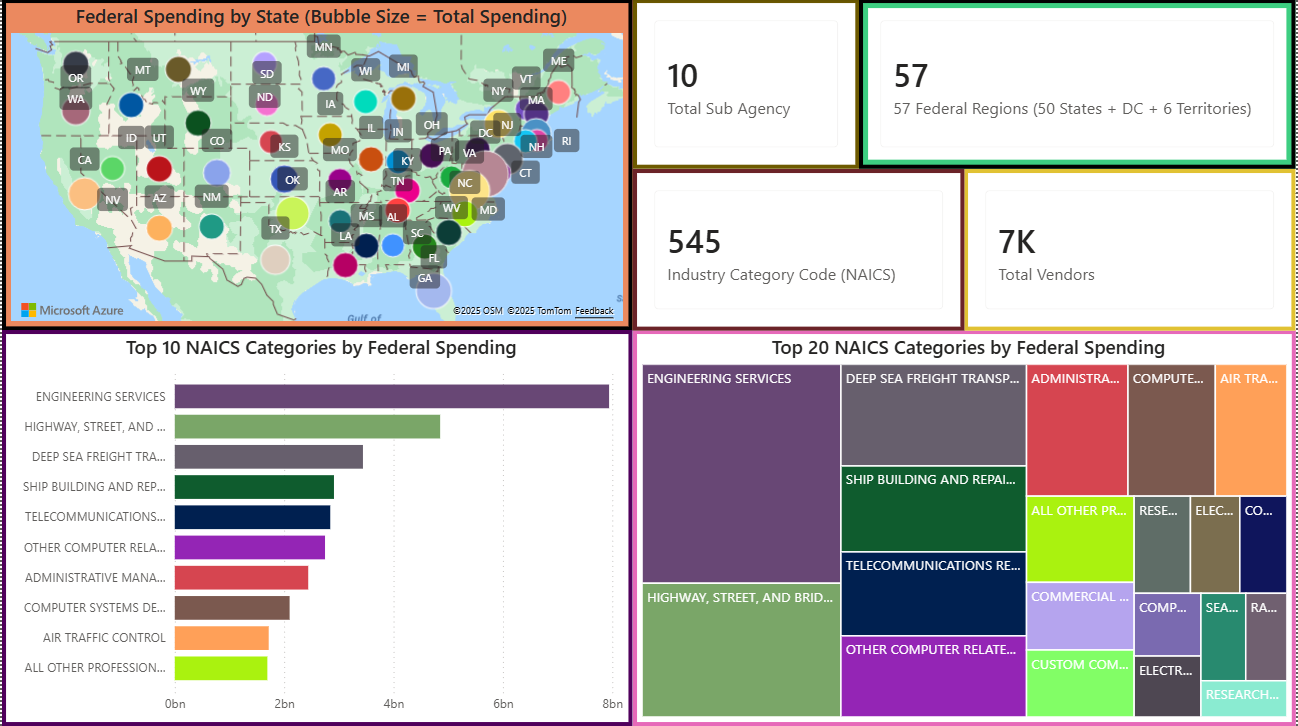

Layout of this report page (visuals, bound fields, positions):
{"tool":"powerbi","page":{"name":"Federal Spending by State & Industry (NAICS Overview)","canvas":[1280,720],"ordinal":3},"visuals":[{"type":"azureMap","title":"Federal Spending by State (Bubble Size = Total Spending)","fields":{"Category":["vw_State_Spending.state","vw_State_Spending.Country"],"Size":["Sum(vw_State_Spending.total_spending)"],"Series":["vw_State_Spending.total_spending"]},"box":[0,0,624,328],"z":0},{"type":"treemap","title":"Top 20 NAICS Categories by Federal Spending","fields":{"Group":["vw_NAICS_Spending.naics_description"],"Values":["Sum(vw_NAICS_Spending.total_spending)"]},"box":[624,328,656,392],"z":1},{"type":"barChart","title":"Top 10 NAICS Categories by Federal Spending","fields":{"Y":["Sum(vw_NAICS_Spending.total_spending)"],"Category":["vw_NAICS_Spending.naics_description"],"Series":["vw_NAICS_Spending.naics_description"]},"box":[0,328,624,392],"z":2},{"type":"cardVisual","fields":{"Data":["Sum(vw_UniqueVendors_Overall.UniqueVendors)"]},"box":[952,168,328,160],"z":3},{"type":"cardVisual","fields":{"Data":["CountNonNull(vw_HHI_Agency.awarding_sub_agency_name)"]},"box":[624,0,224,168],"z":4},{"type":"cardVisual","fields":{"Data":["CountNonNull(vw_NAICS_Spending.naics_description)"]},"box":[624,168,328,160],"z":5},{"type":"cardVisual","fields":{"Data":["CountNonNull(vw_State_Spending.state)"]},"box":[848,0,432,168],"z":6}]}

Visuals, with their boxes in screenshot pixels (x1, y1, x2, y2), scaled from the page's 1280x720 canvas onto the 1298x726 screenshot:
"Federal Spending by State (Bubble Size = Total Spending)" azureMap: {"x1": 0, "y1": 0, "x2": 633, "y2": 331}
"Top 20 NAICS Categories by Federal Spending" treemap: {"x1": 633, "y1": 331, "x2": 1297, "y2": 725}
"Top 10 NAICS Categories by Federal Spending" barChart: {"x1": 0, "y1": 331, "x2": 633, "y2": 725}
cardVisual - Sum(vw_UniqueVendors_Overall.UniqueVendors): {"x1": 965, "y1": 169, "x2": 1297, "y2": 331}
cardVisual - CountNonNull(vw_HHI_Agency.awarding_sub_agency_name): {"x1": 633, "y1": 0, "x2": 860, "y2": 169}
cardVisual - CountNonNull(vw_NAICS_Spending.naics_description): {"x1": 633, "y1": 169, "x2": 965, "y2": 331}
cardVisual - CountNonNull(vw_State_Spending.state): {"x1": 860, "y1": 0, "x2": 1297, "y2": 169}
